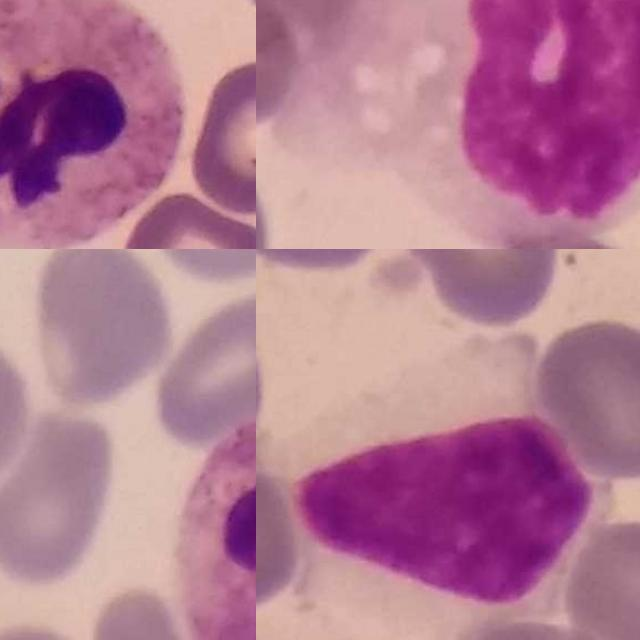Lymphocyte: (288, 353, 596, 629)
Monocyte: (380, 0, 640, 227)
Neutrophil: (0, 0, 184, 249), (174, 408, 256, 640)
